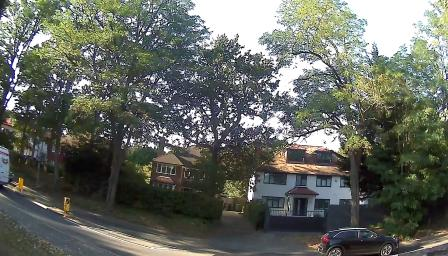Cars: (307, 215, 416, 256)
